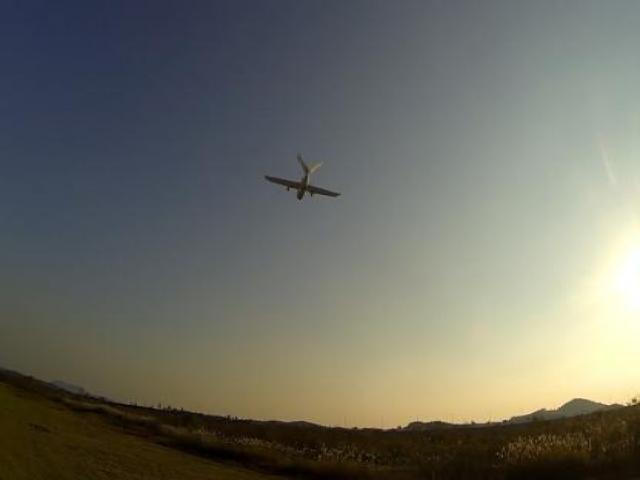uav: (257, 147, 349, 210)
